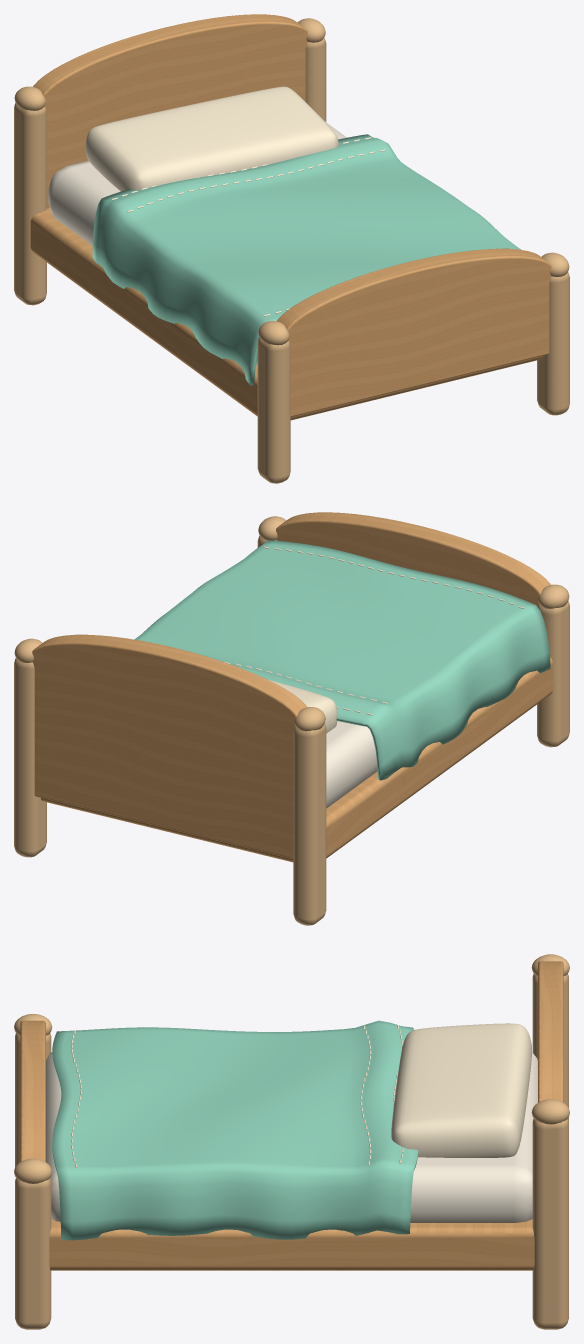
File: playroom_bed.glb
3 renders of one model, top to bottom at view 1: azimuth 30°, elevation 25°; view 2: azimuth 150°, elevation 25°; view 3: azimuth 270°, elevation 25°, orthographic. The views are drawn at different scales.
Visible parts, largest first — view 1: playroom_bed; view 2: playroom_bed; view 3: playroom_bed.
Boxes of the visible parts, left/top/right/bottom form: playroom_bed: left=14, top=14, right=569, bottom=483; playroom_bed: left=14, top=512, right=569, bottom=925; playroom_bed: left=14, top=954, right=569, bottom=1329.
Bounding box in the file's own units: 2.06 × 1.52 × 3.05.
5 materials, 1 textured.
